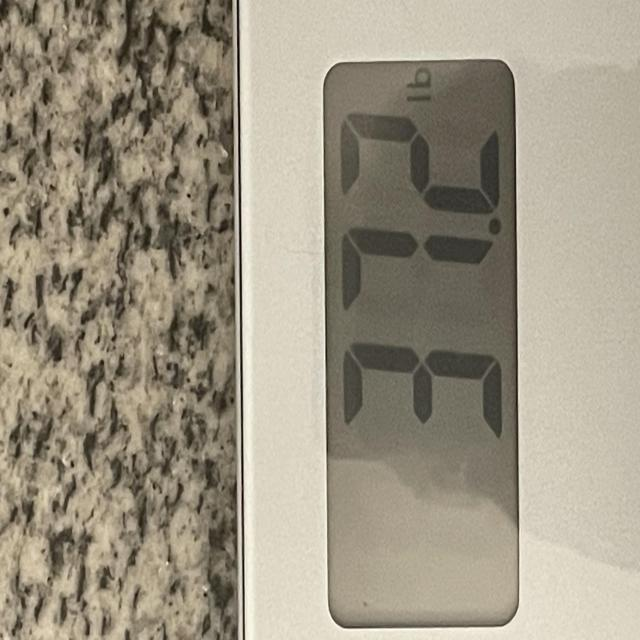ws: (209, 0, 640, 640)
